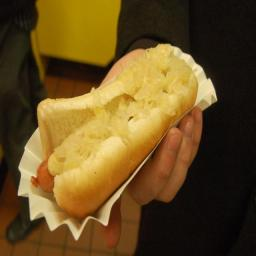hotdog: (24, 48, 184, 210)
